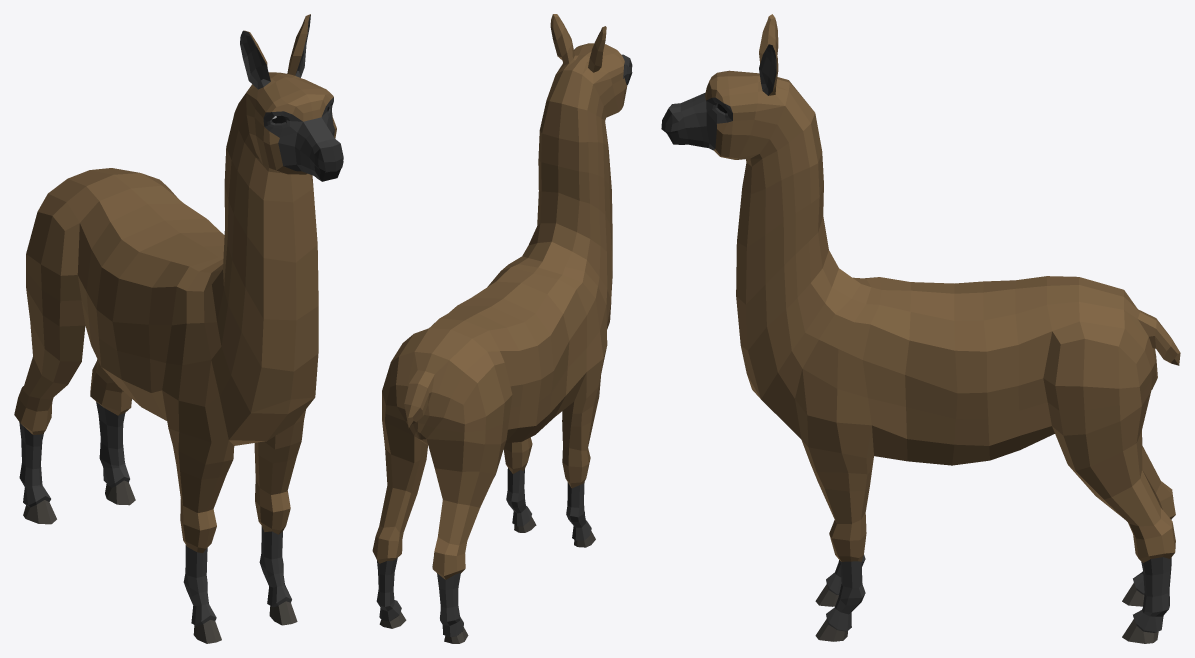
Rendered from alpaca.glb.
3 renders of one model, left to right at view 1: azimuth 30°, elevation 25°; view 2: azimuth 150°, elevation 25°; view 3: azimuth 270°, elevation 25°, orthographic. The views are drawn at different scales.
Visible parts, largest first — view 1: Alpaca; view 2: Alpaca; view 3: Alpaca.
Boxes of the visible parts, x1,y1,x2,y2 form: Alpaca: [14, 14, 343, 643]; Alpaca: [372, 14, 632, 643]; Alpaca: [661, 14, 1180, 643].
Size of the model in its own units: 1.27 by 5.4 by 4.3.
